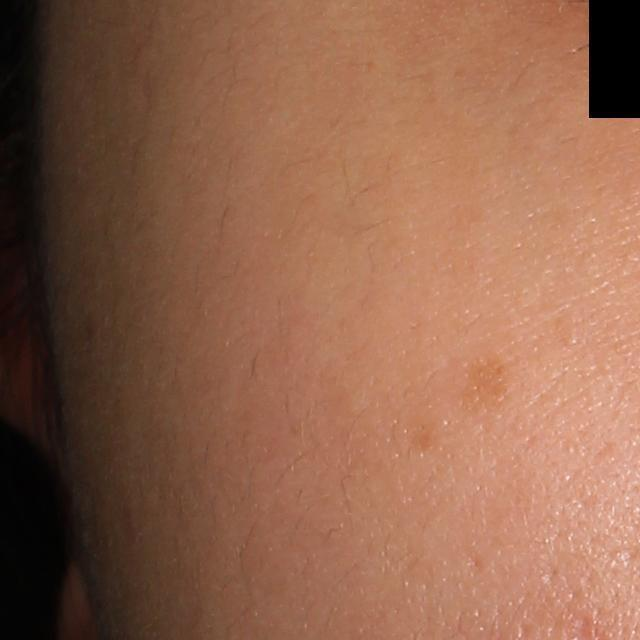melasma: (460, 350, 513, 428)
